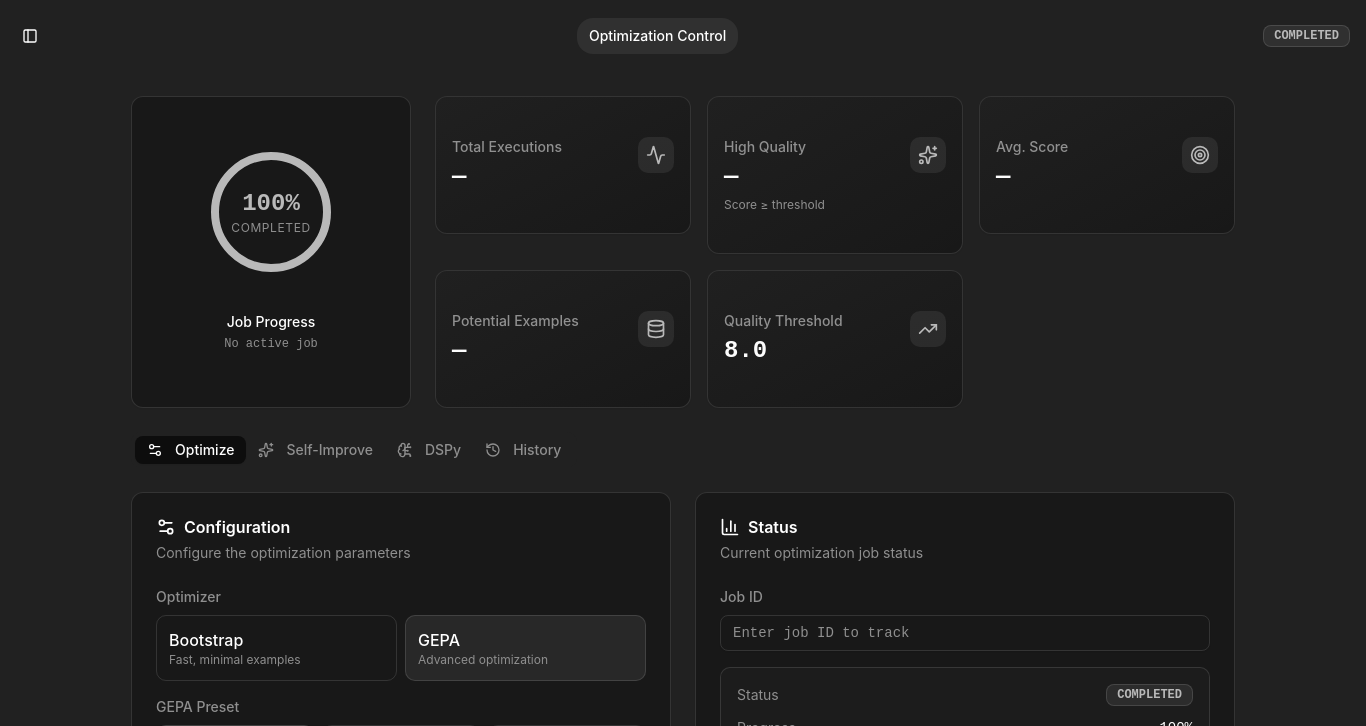
Test case: OptimizationDashboard › renders self-improvement error state
Click the Self-Improve tab to see the error state
Click the tab "Self-Improve".
click(316, 450)  # box [246, 436, 385, 464]
(page scrolled)
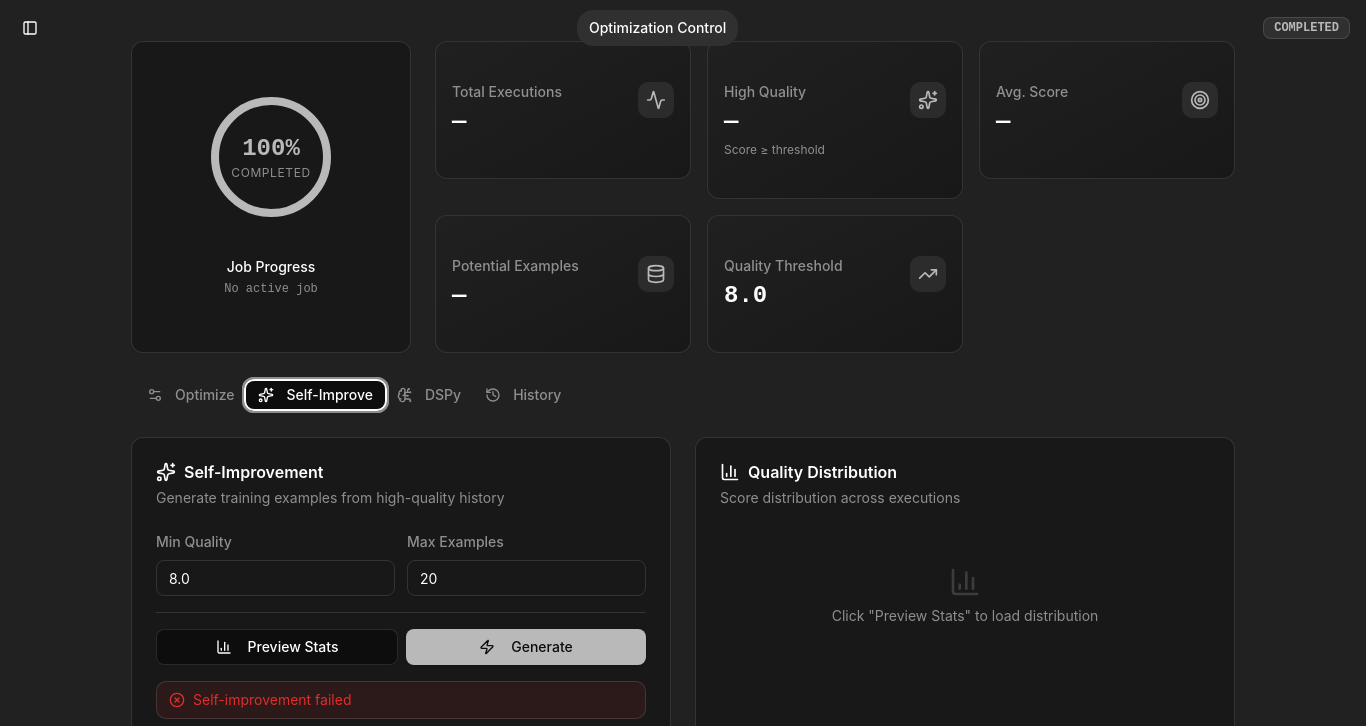
expect the text "Self-improvement failed" is shown: met, box [156, 681, 646, 719]
